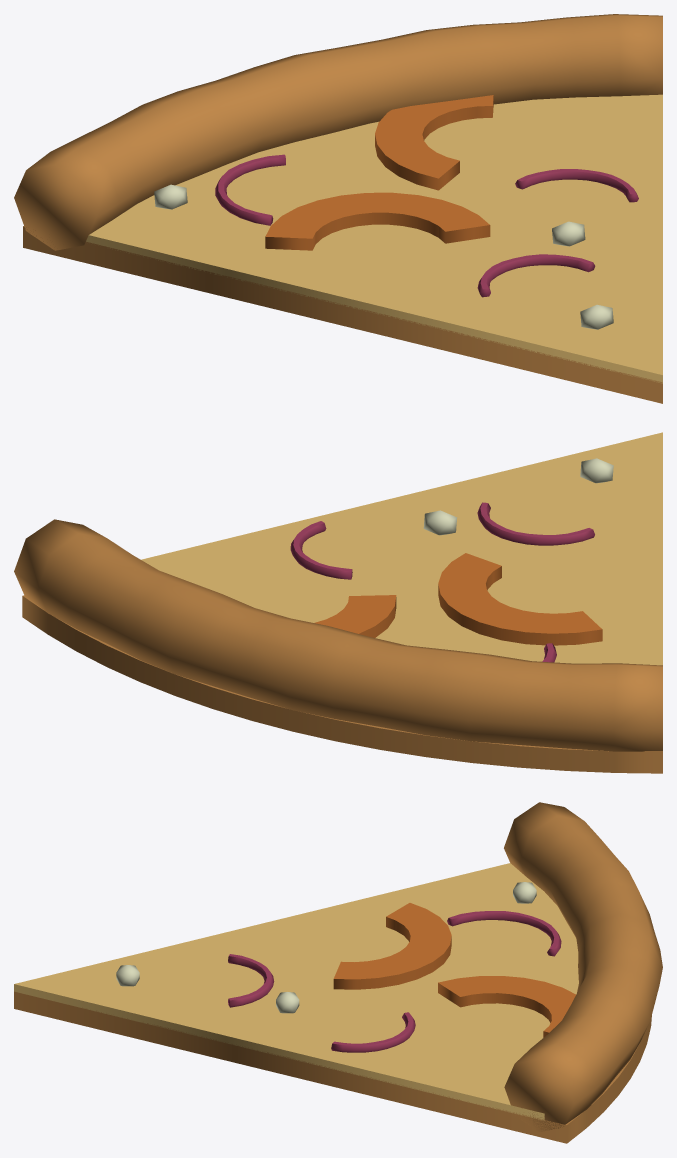
3 views of the same model, one above another, from view 1: azimuth 30°, elevation 25°; view 2: azimuth 150°, elevation 25°; view 3: azimuth 270°, elevation 25° (orthographic). The views are drawn at different scales.
Visible parts, largest first — view 1: Melted cheese wedge, Raised outer baked crust, Thin triangular pizza dough, Roasted squash arc 0, Roasted squash arc 1, Curved red onion 1, Curved red onion 0, Curved red onion 2, Irregular blue cheese chunk 1, Irregular blue cheese chunk 2, Irregular blue cheese chunk 0; view 2: Melted cheese wedge, Raised outer baked crust, Thin triangular pizza dough, Roasted squash arc 0, Roasted squash arc 1, Curved red onion 0, Curved red onion 2, Irregular blue cheese chunk 0, Irregular blue cheese chunk 2; view 3: Melted cheese wedge, Raised outer baked crust, Thin triangular pizza dough, Roasted squash arc 0, Roasted squash arc 1, Curved red onion 1, Curved red onion 2, Curved red onion 0.
Part boxes in pixels (x1=…): Melted cheese wedge: x1=86, y1=94, x2=662, y2=383; Raised outer baked crust: x1=14, y1=14, x2=662, y2=250; Thin triangular pizza dough: x1=23, y1=226, x2=662, y2=403; Roasted squash arc 0: x1=265, y1=192, x2=490, y2=250; Roasted squash arc 1: x1=375, y1=95, x2=493, y2=190; Curved red onion 1: x1=215, y1=154, x2=285, y2=225; Curved red onion 0: x1=477, y1=254, x2=595, y2=297; Curved red onion 2: x1=515, y1=169, x2=638, y2=202; Irregular blue cheese chunk 1: x1=154, y1=184, x2=187, y2=209; Irregular blue cheese chunk 2: x1=580, y1=304, x2=613, y2=329; Irregular blue cheese chunk 0: x1=552, y1=221, x2=585, y2=246; Melted cheese wedge: x1=141, y1=432, x2=662, y2=665; Raised outer baked crust: x1=14, y1=519, x2=662, y2=751; Thin triangular pizza dough: x1=22, y1=595, x2=662, y2=773; Roasted squash arc 0: x1=438, y1=553, x2=602, y2=645; Roasted squash arc 1: x1=314, y1=595, x2=396, y2=637; Curved red onion 0: x1=477, y1=502, x2=594, y2=545; Curved red onion 2: x1=290, y1=521, x2=352, y2=579; Irregular blue cheese chunk 0: x1=423, y1=510, x2=457, y2=535; Irregular blue cheese chunk 2: x1=580, y1=458, x2=613, y2=483; Melted cheese wedge: x1=14, y1=863, x2=578, y2=1120; Raised outer baked crust: x1=504, y1=802, x2=662, y2=1131; Thin triangular pizza dough: x1=14, y1=991, x2=651, y2=1143; Roasted squash arc 0: x1=333, y1=903, x2=451, y2=989; Roasted squash arc 1: x1=438, y1=976, x2=575, y2=1037; Curved red onion 1: x1=447, y1=911, x2=561, y2=956; Curved red onion 2: x1=331, y1=1012, x2=415, y2=1052; Curved red onion 0: x1=228, y1=954, x2=274, y2=1007.
Size of the model in its own units: 0.1419 by 0.0193 by 0.1423.
